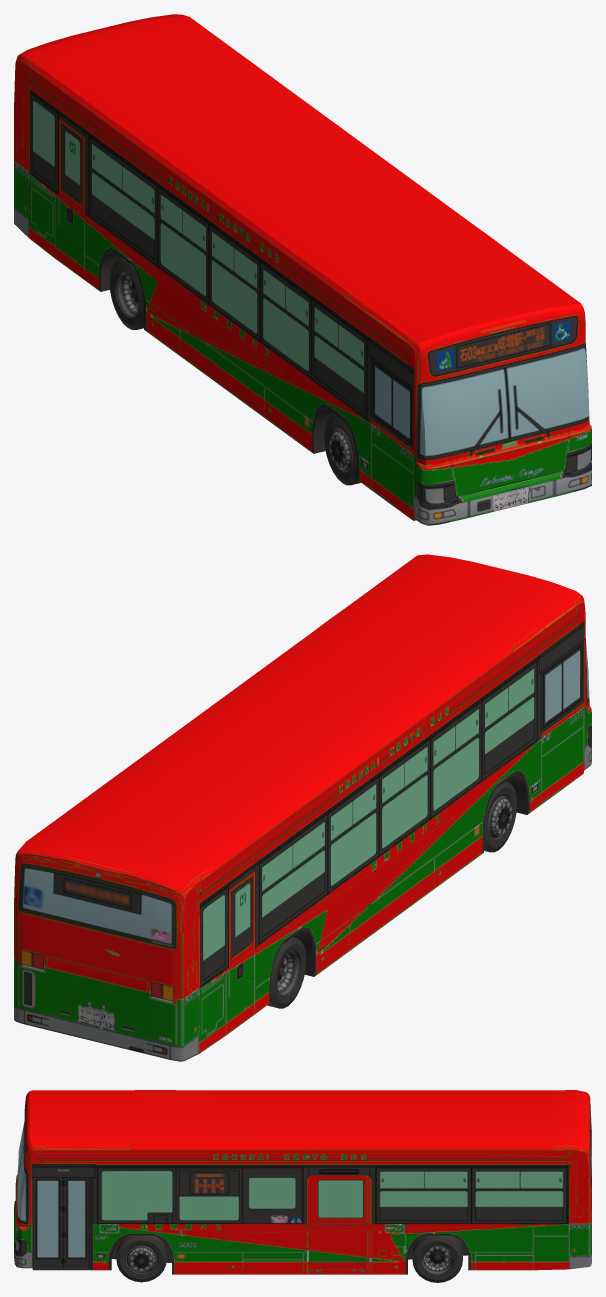
Rendered from Bus.fbx.
3 renders of one model, top to bottom at view 1: azimuth 30°, elevation 25°; view 2: azimuth 150°, elevation 25°; view 3: azimuth 270°, elevation 25°, orthographic. The views are drawn at different scales.
Parts seen in each view (by area): view 1: Bus, Wheel_2, Wheel_1L; view 2: Bus, Wheel_2, Wheel_1L; view 3: Bus, Wheel_2, Wheel_1R.
Boxes of the visible parts, x1,y1,x2,y2 form: Bus: (14,14,591,525); Wheel_2: (109,259,143,329); Wheel_1L: (324,414,360,485); Bus: (14,554,591,1061); Wheel_2: (267,937,306,1008); Wheel_1L: (484,781,516,852); Bus: (14,1090,591,1274); Wheel_2: (412,1235,462,1282); Wheel_1R: (116,1235,166,1282).
Bounding box in the file's own units: 284 × 324 × 1198.
1 material, 1 textured.
